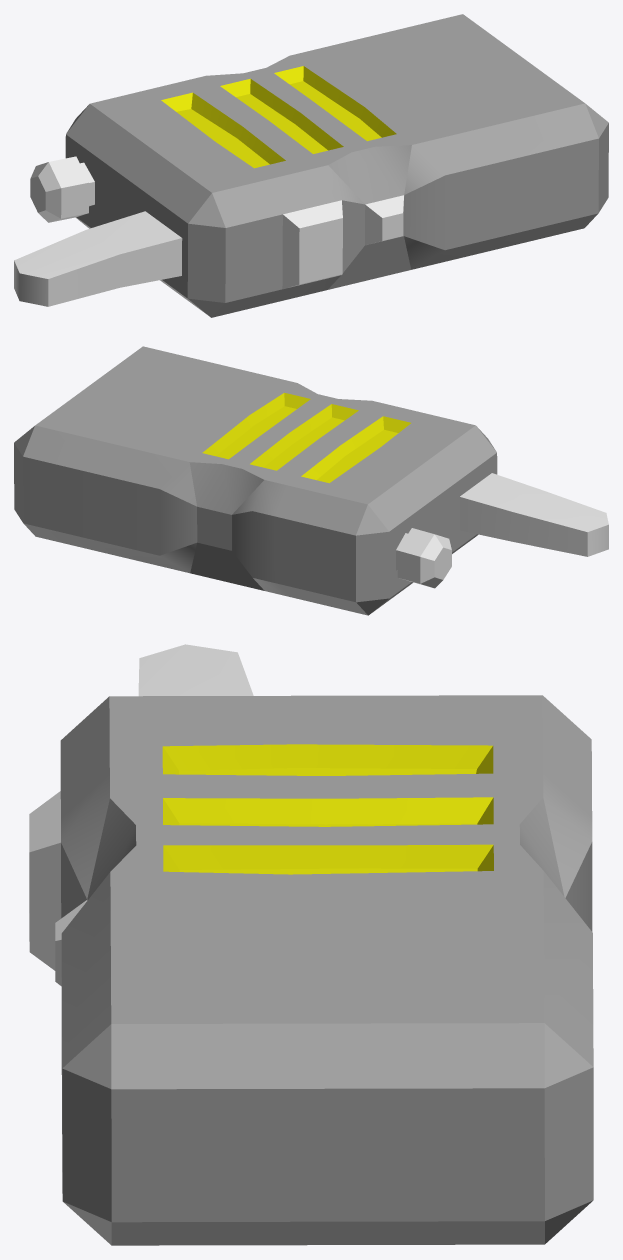
File: BedRoom_WalkieTalkie.fbx
3 renders of one model, top to bottom at view 1: azimuth 30°, elevation 25°; view 2: azimuth 150°, elevation 25°; view 3: azimuth 270°, elevation 25°, orthographic. The views are drawn at different scales.
Visible parts, largest first — view 1: BedRoom_WalkieTalkie; view 2: BedRoom_WalkieTalkie; view 3: BedRoom_WalkieTalkie.
Part boxes in pixels (x1=…): BedRoom_WalkieTalkie: x1=14, y1=14, x2=608, y2=317; BedRoom_WalkieTalkie: x1=14, y1=346, x2=608, y2=615; BedRoom_WalkieTalkie: x1=29, y1=644, x2=593, y2=1245.
Size of the model in its own units: 30.48 by 6.51 by 14.74.
